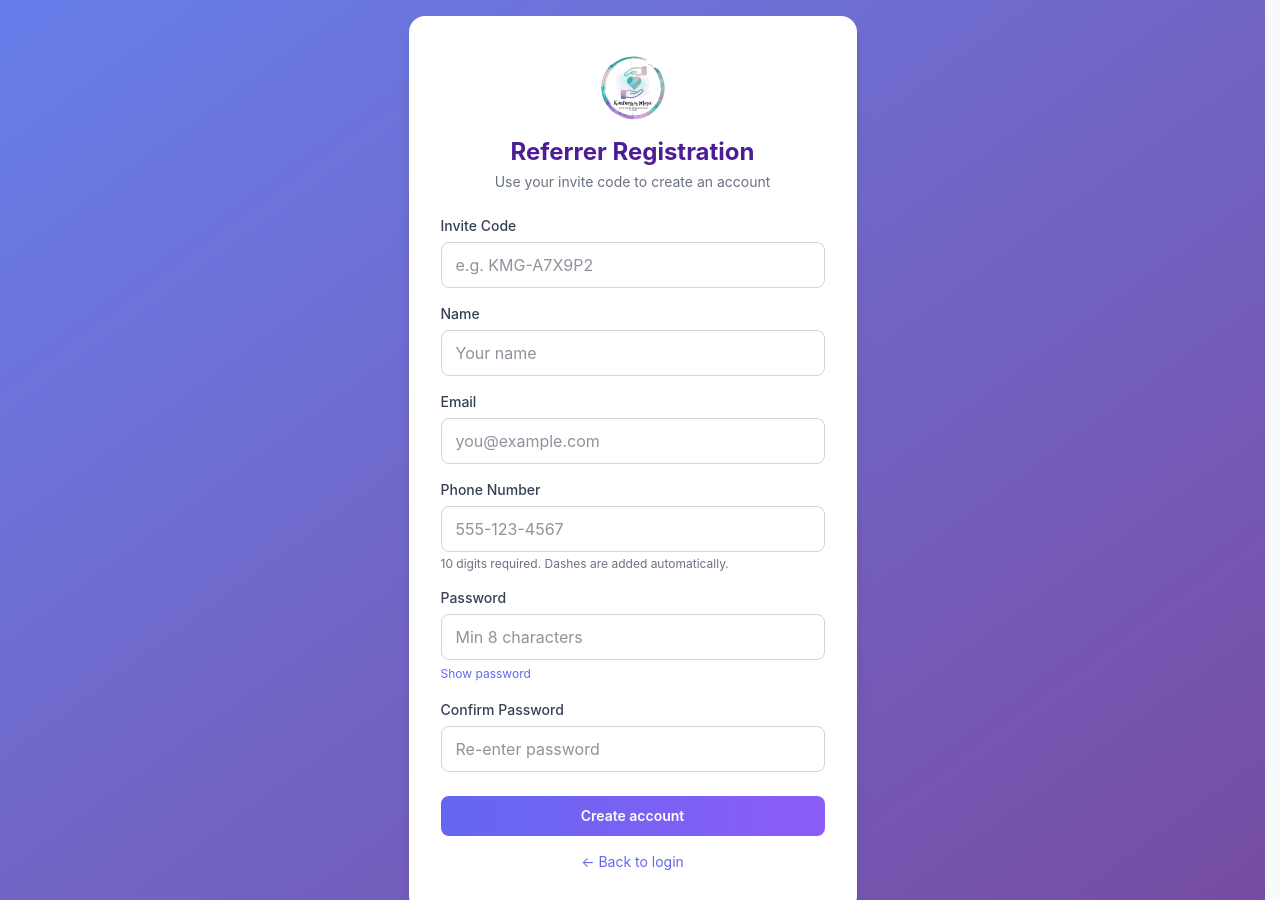
ReferrerSelfRegister › shows error message when API returns invalid code error
In the field labelled "Invite Code": (632, 265) [440,242,824,288], type "INVALID"
In the field labelled "Name": (632, 353) [440,330,824,376], type "Test Referrer"
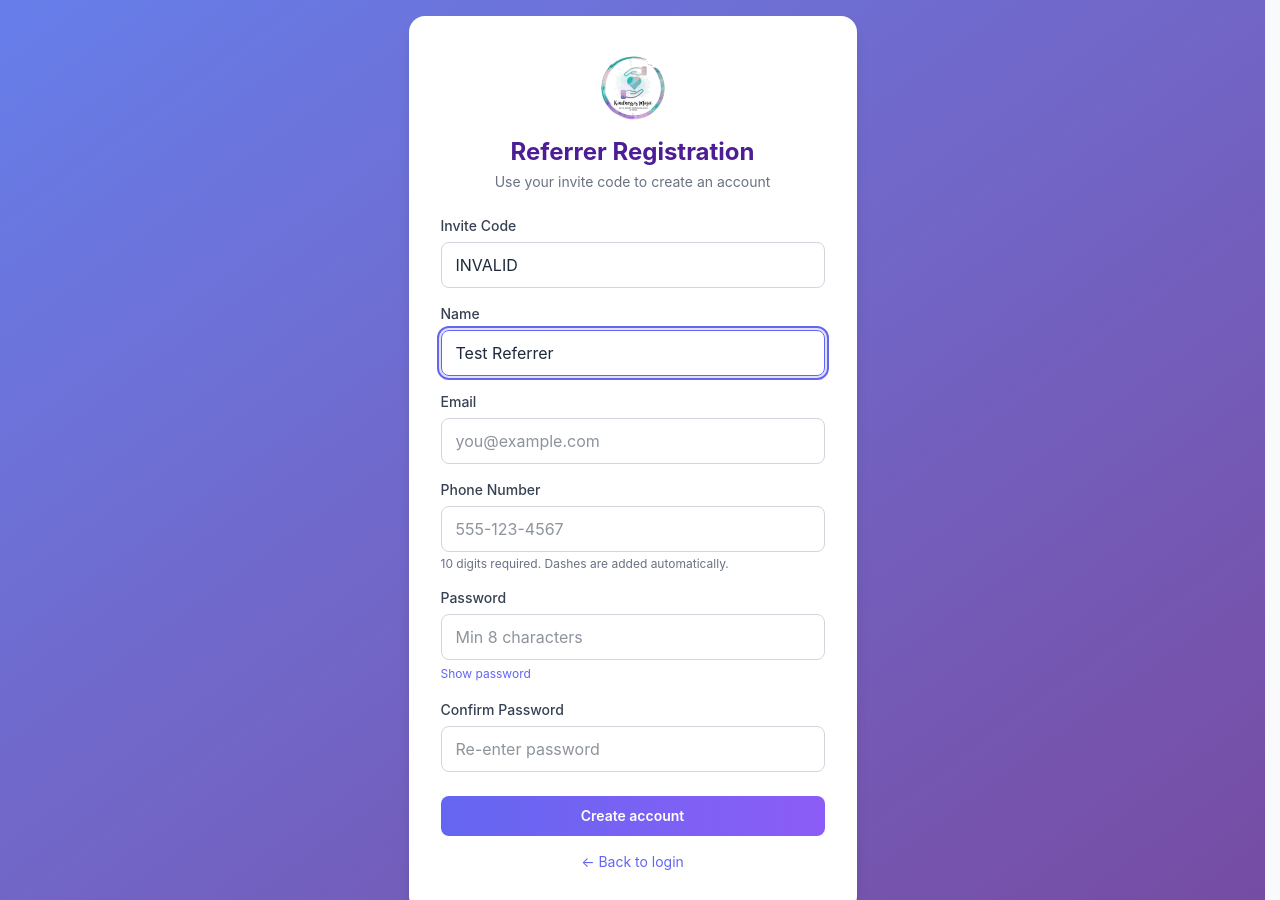
In the field labelled "Email": (632, 441) [440,418,824,464], type "test@example.com"
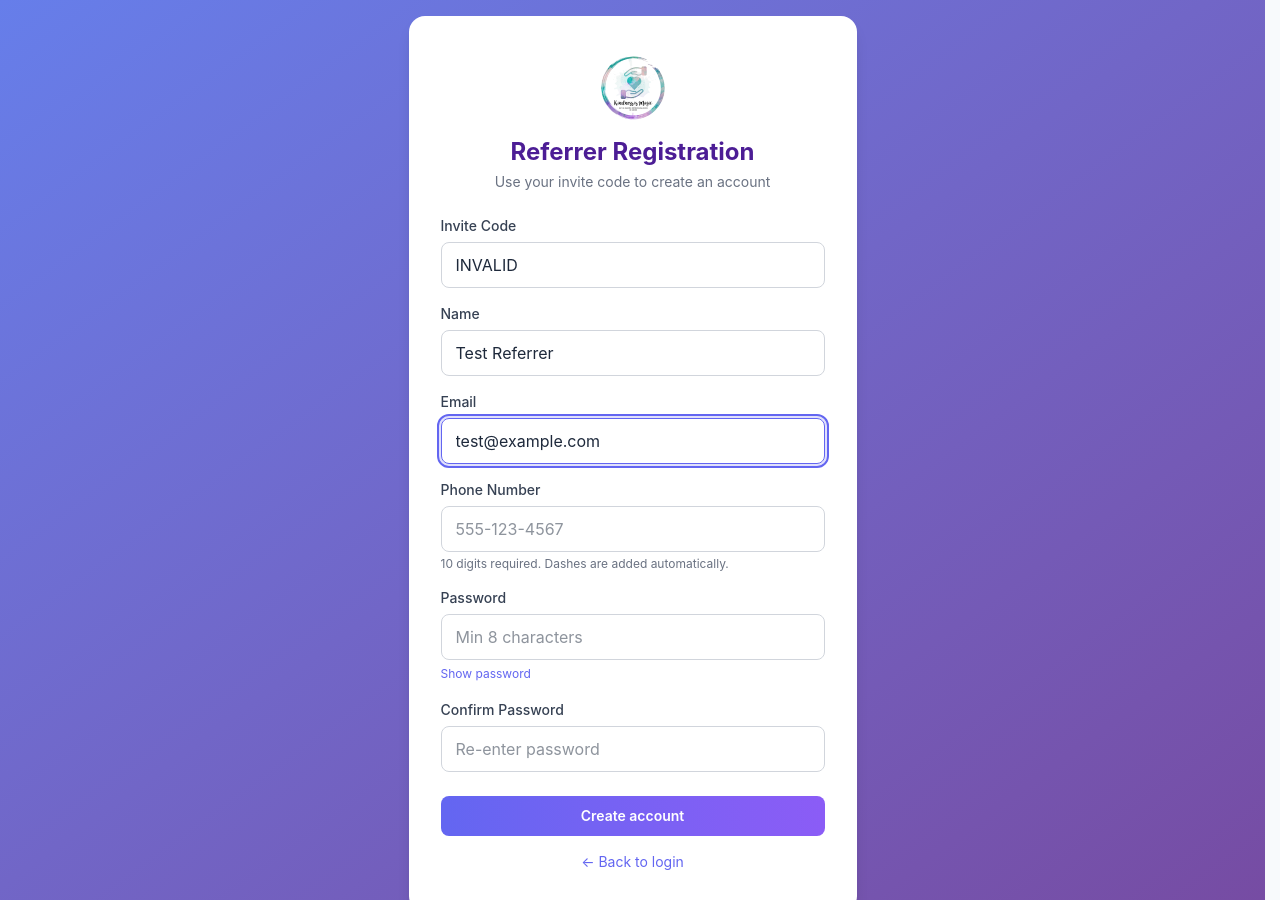
In the field labelled "Phone Number": (632, 529) [440,506,824,552], type "07123 456789"
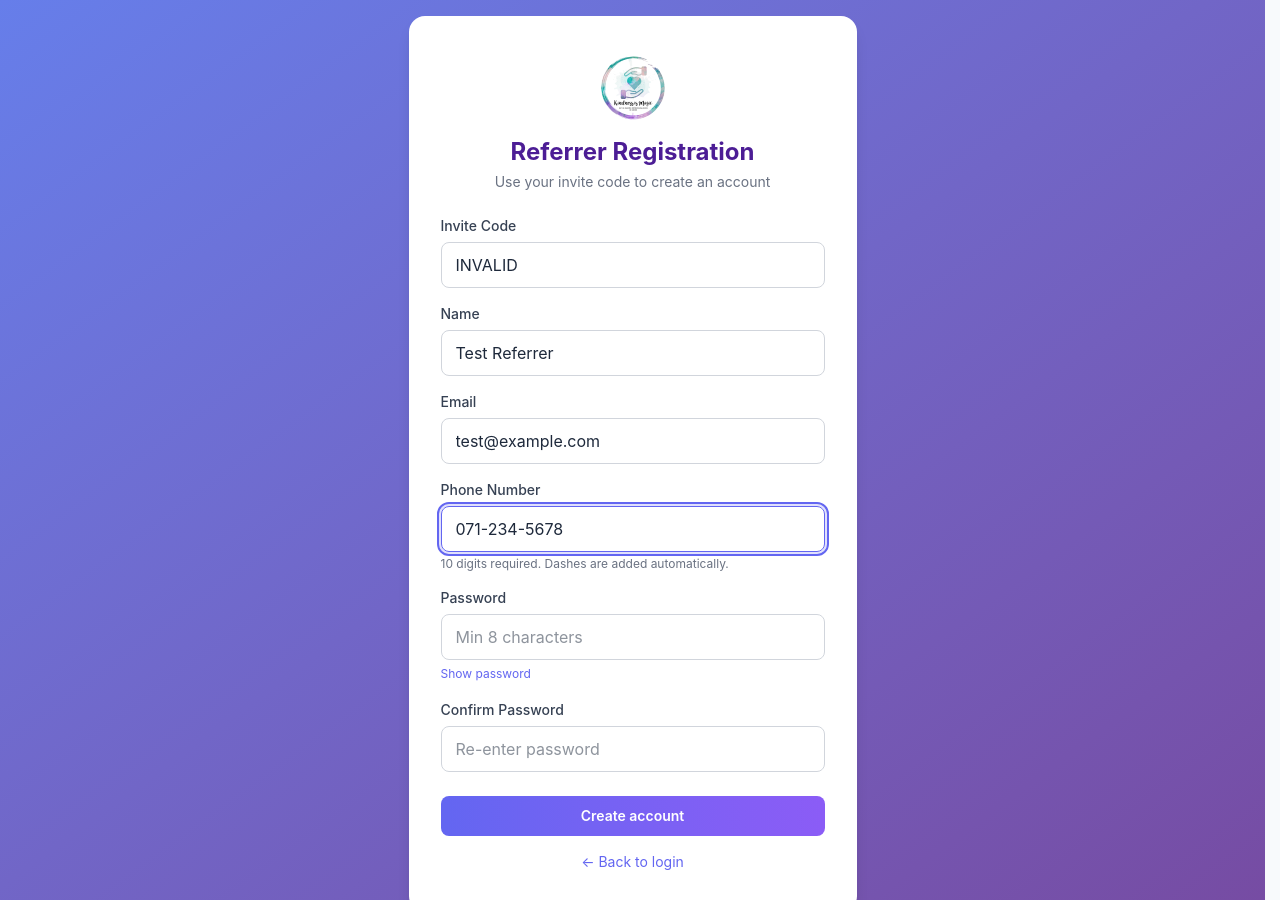
In the password field labelled "Password": (632, 637) [440,614,824,660], type "password123"
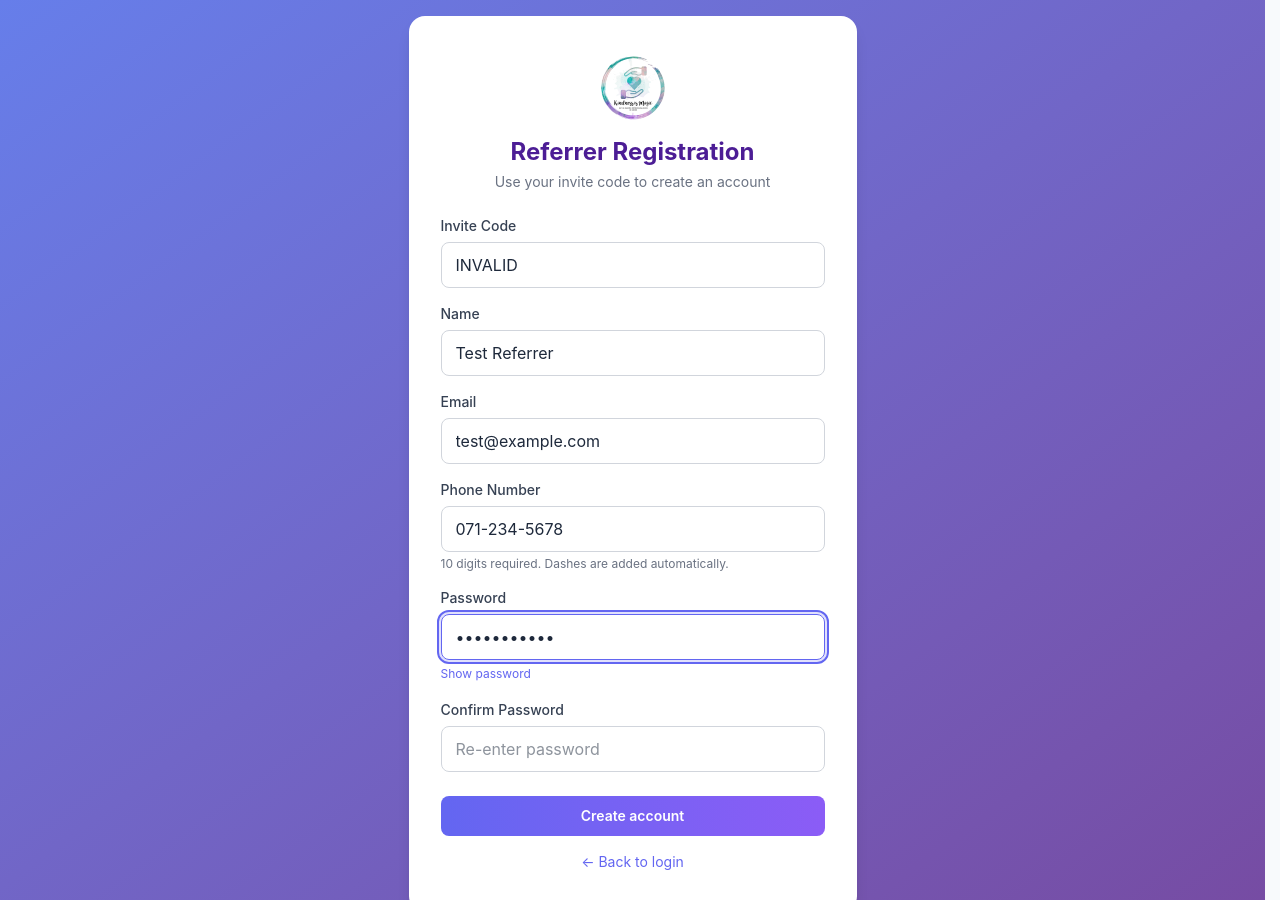
In the password field labelled "Confirm Password": (632, 749) [440,726,824,772], type "password123"
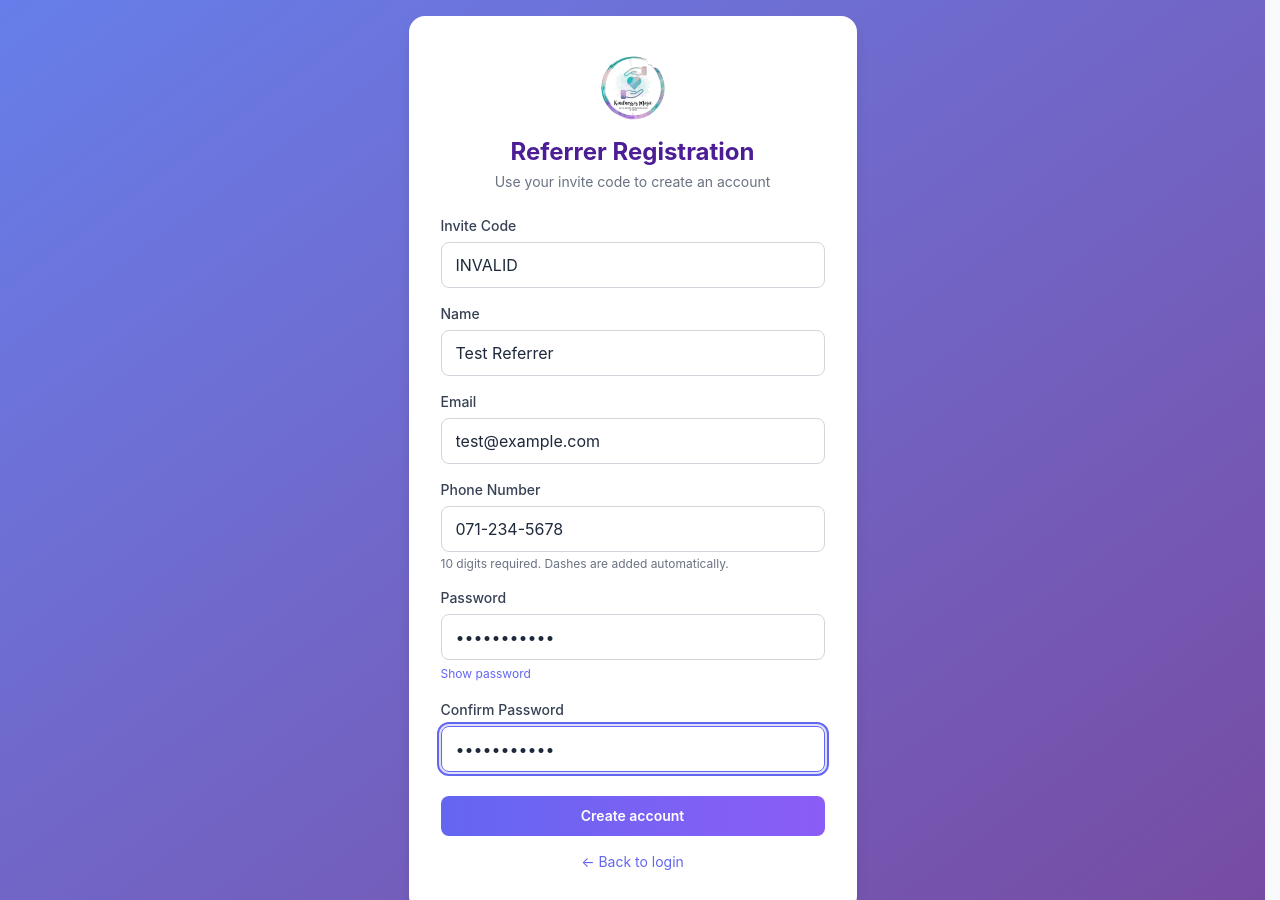
Click the button "Create account": click(632, 816) [440,796,824,836]
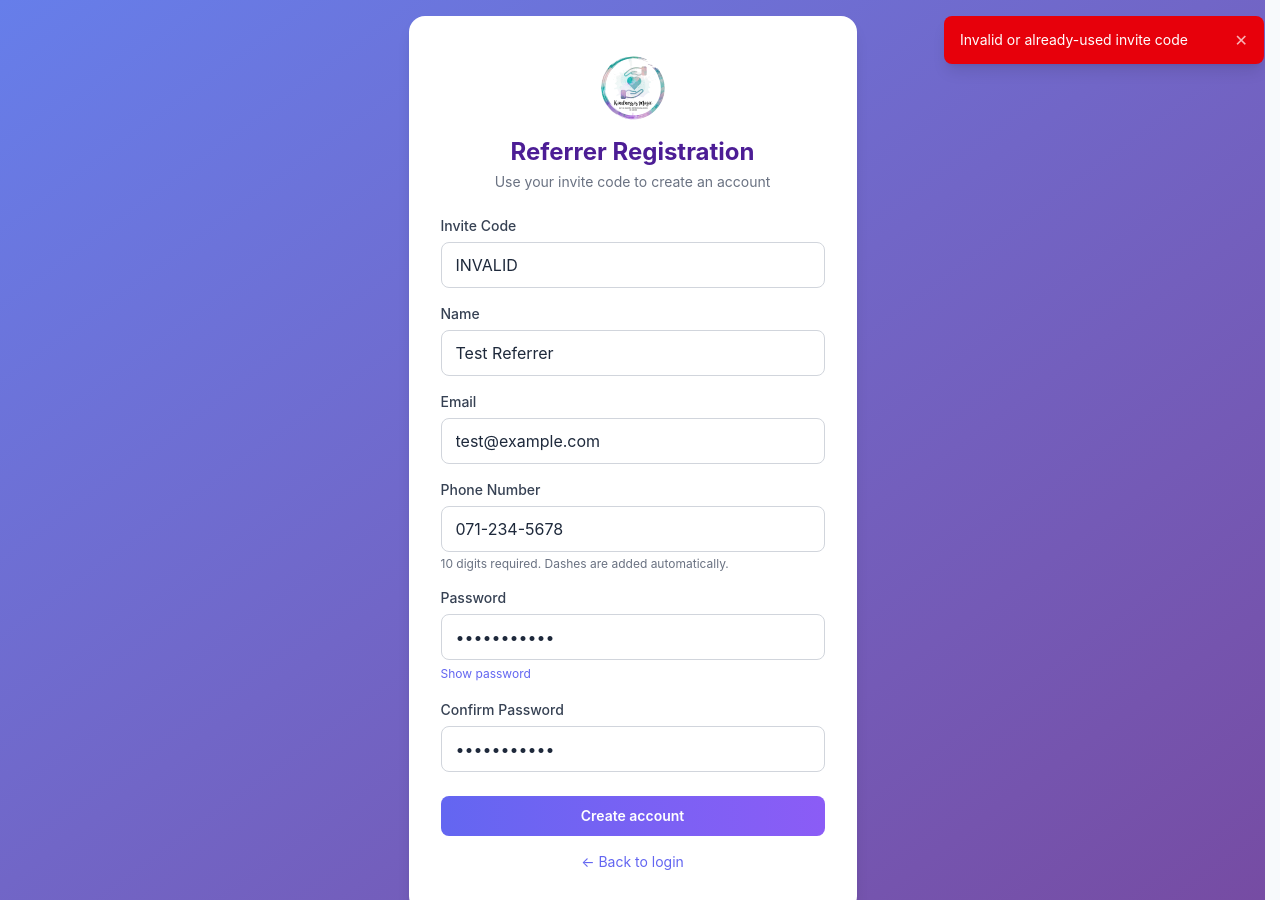
Now the text "Invalid or already-used invite code" is shown, box [960,30,1223,50]
